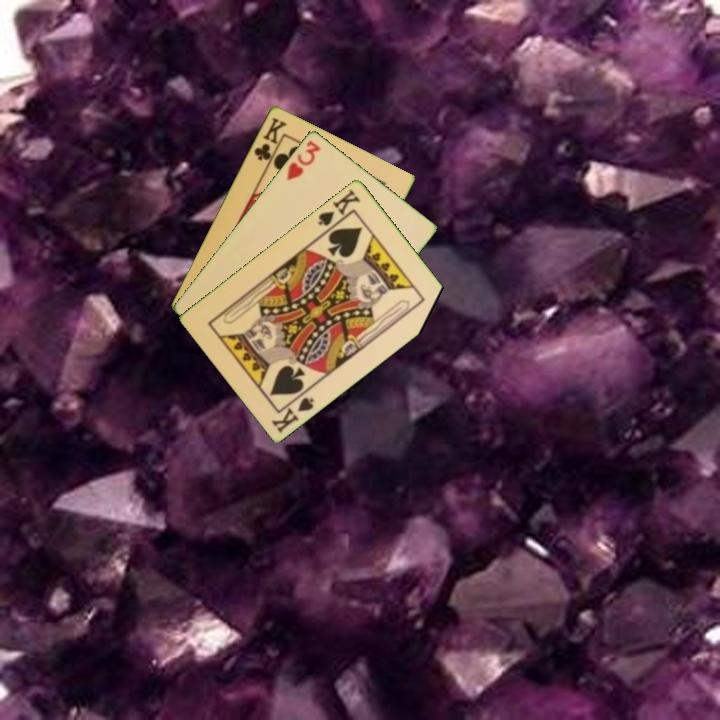3h: (283, 136, 324, 183)
Kc: (250, 113, 289, 169)
Ks: (268, 386, 317, 436), (314, 185, 363, 234)
